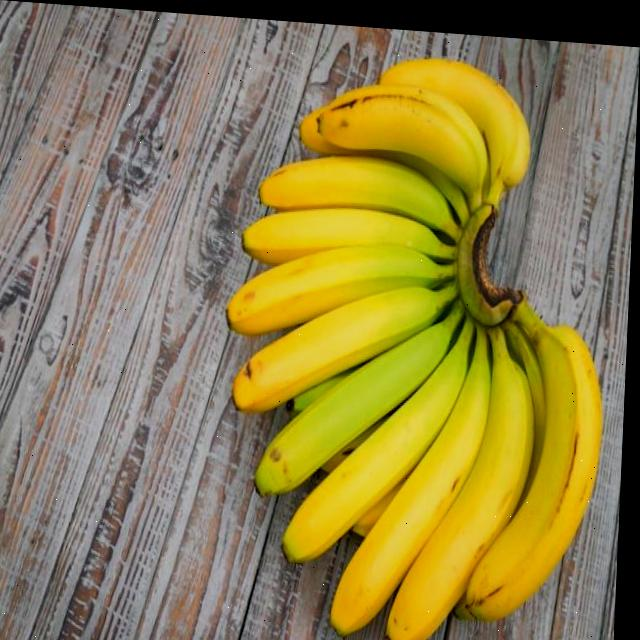banana: (207, 37, 621, 640)
